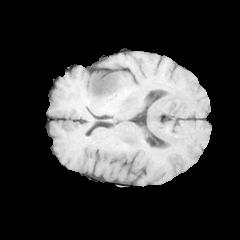glioma: (88, 72, 123, 99)
